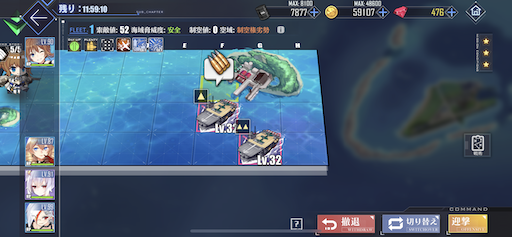lv1: (192, 86, 238, 134)
lv2: (234, 118, 285, 168)
